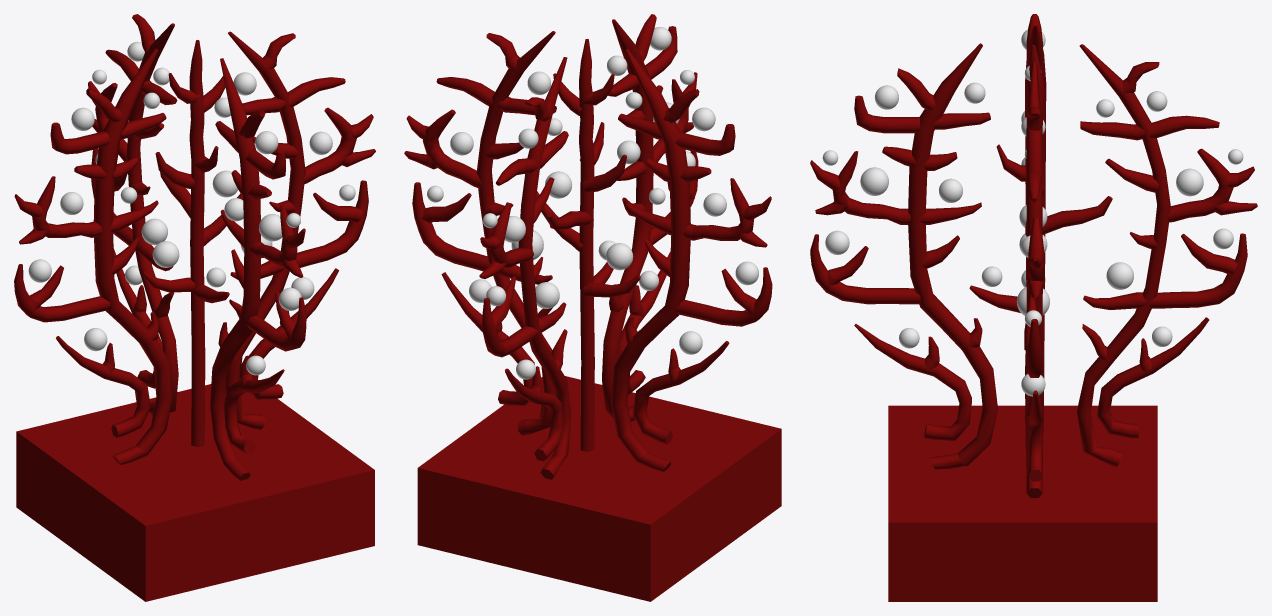
File: GaiaStatue.FBX
3 renders of one model, left to right at view 1: azimuth 30°, elevation 25°; view 2: azimuth 150°, elevation 25°; view 3: azimuth 270°, elevation 25°, orthographic. The views are drawn at different scales.
Parts seen in each view (by area): view 1: Box001, Cylinder058, Cylinder057, Cylinder059, Cylinder031, Cylinder056, Cylinder061, Cylinder041, Cylinder060, Cylinder040, Sphere007, Sphere022 (+2 smaller); view 2: Box001, Cylinder058, Cylinder059, Cylinder056, Cylinder031, Cylinder057, Cylinder061, Cylinder040, Cylinder060, Cylinder041, Sphere007, Sphere022 (+1 smaller); view 3: Box001, Cylinder057, Cylinder056, Cylinder059, Cylinder041, Cylinder031, Cylinder040, Cylinder058, Cylinder060, Sphere016, Sphere024, Sphere022.
Part boxes in pixels (bbox=[...]): Box001: bbox=[16, 378, 374, 601]; Cylinder058: bbox=[14, 48, 172, 464]; Cylinder057: bbox=[210, 58, 306, 480]; Cylinder059: bbox=[225, 31, 375, 429]; Cylinder031: bbox=[142, 40, 243, 446]; Cylinder056: bbox=[88, 14, 178, 415]; Cylinder061: bbox=[56, 336, 150, 437]; Cylinder041: bbox=[224, 355, 284, 453]; Cylinder060: bbox=[249, 268, 338, 399]; Cylinder040: bbox=[113, 248, 162, 388]; Sphere007: bbox=[152, 241, 179, 267]; Sphere022: bbox=[141, 218, 167, 245]; Box001: bbox=[417, 376, 781, 601]; Cylinder058: bbox=[610, 48, 772, 471]; Cylinder059: bbox=[404, 31, 556, 435]; Cylinder056: bbox=[479, 57, 571, 479]; Cylinder031: bbox=[536, 39, 640, 451]; Cylinder057: bbox=[602, 14, 698, 421]; Cylinder061: bbox=[632, 341, 729, 444]; Cylinder040: bbox=[505, 366, 563, 461]; Cylinder060: bbox=[441, 272, 534, 405]; Cylinder041: bbox=[617, 251, 670, 394]; Sphere007: bbox=[606, 243, 633, 270]; Sphere022: bbox=[535, 282, 559, 308]; Box001: bbox=[888, 405, 1157, 601]; Cylinder057: bbox=[810, 43, 997, 469]; Cylinder056: bbox=[1077, 44, 1257, 467]; Cylinder059: bbox=[1024, 62, 1044, 497]; Cylinder041: bbox=[854, 324, 971, 440]; Cylinder031: bbox=[969, 45, 1112, 467]; Cylinder040: bbox=[1097, 317, 1209, 438]; Cylinder058: bbox=[1025, 14, 1046, 432]; Cylinder060: bbox=[1027, 390, 1042, 481]; Sphere016: bbox=[860, 167, 888, 195]; Sphere024: bbox=[1176, 168, 1203, 196]; Sphere022: bbox=[1106, 262, 1133, 289].
Size of the model in its own units: 60.76 by 77.59 by 62.59.
